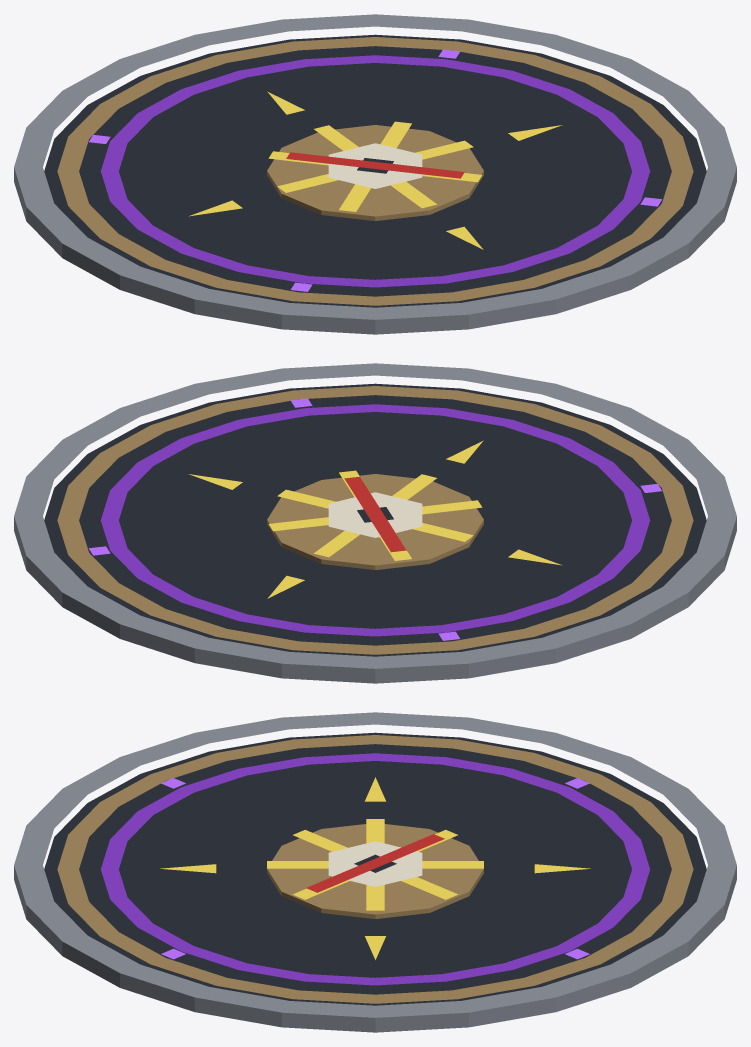
The model's file is blinder_rare_area.glb.
The picture shows the model from 3 angles, top to bottom: view 1: azimuth 30°, elevation 25°; view 2: azimuth 150°, elevation 25°; view 3: azimuth 270°, elevation 25°; orthographic projection.
Visible parts, largest first — view 1: blinder_rare_area; view 2: blinder_rare_area; view 3: blinder_rare_area.
Boxes of the visible parts, <box> form: blinder_rare_area: <box>14,14,736,334</box>; blinder_rare_area: <box>14,363,736,683</box>; blinder_rare_area: <box>14,712,736,1032</box>.
Size of the model in its own units: 2 by 0.05 by 2.
Materials: 2 (2 with a texture image).
